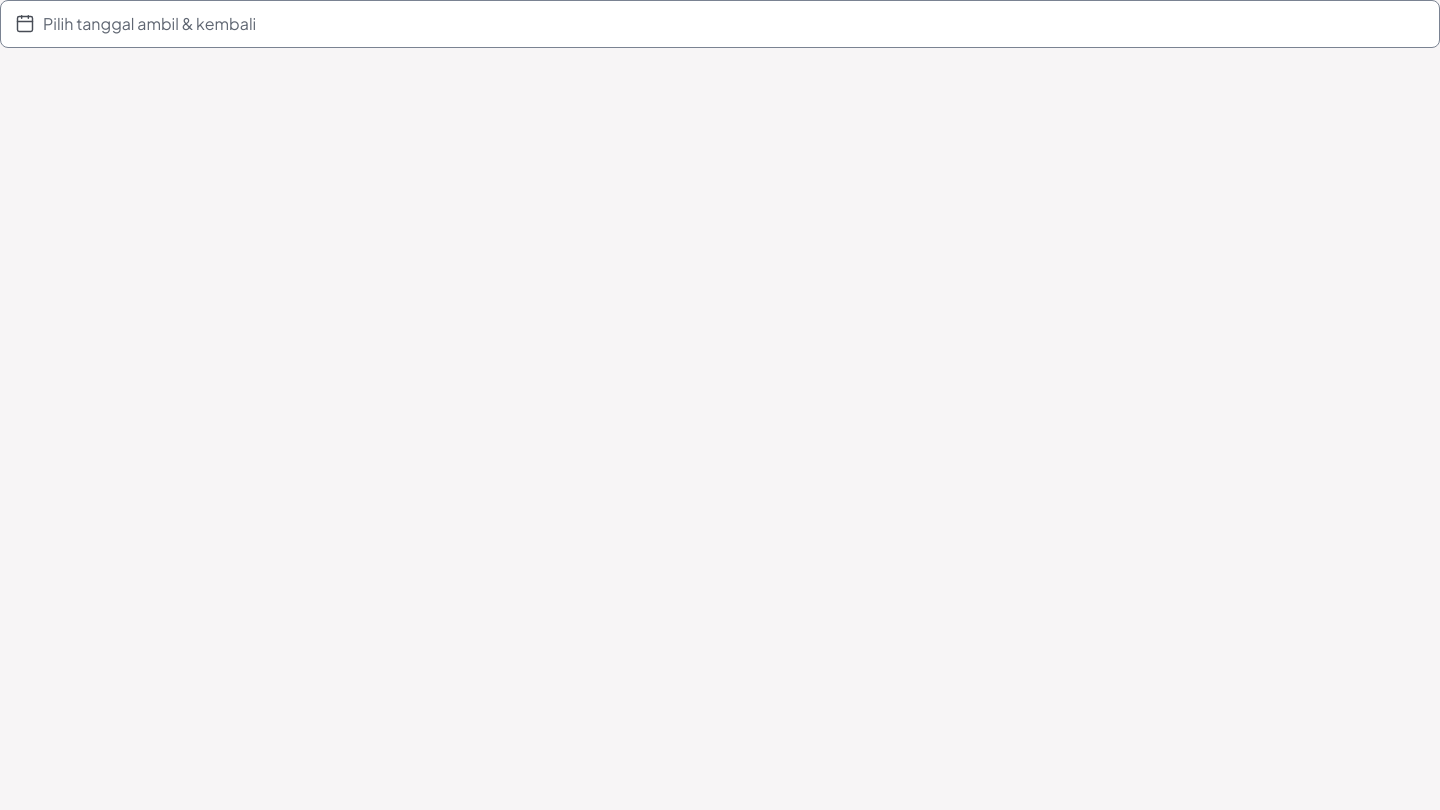
Test: DateRangePicker › offers 30-minute slots inside opening hours
Step 1. Click the button "Pilih tanggal ambil & kembali" → x=150, y=24, box x1=0 y1=0 x2=1439 y2=48
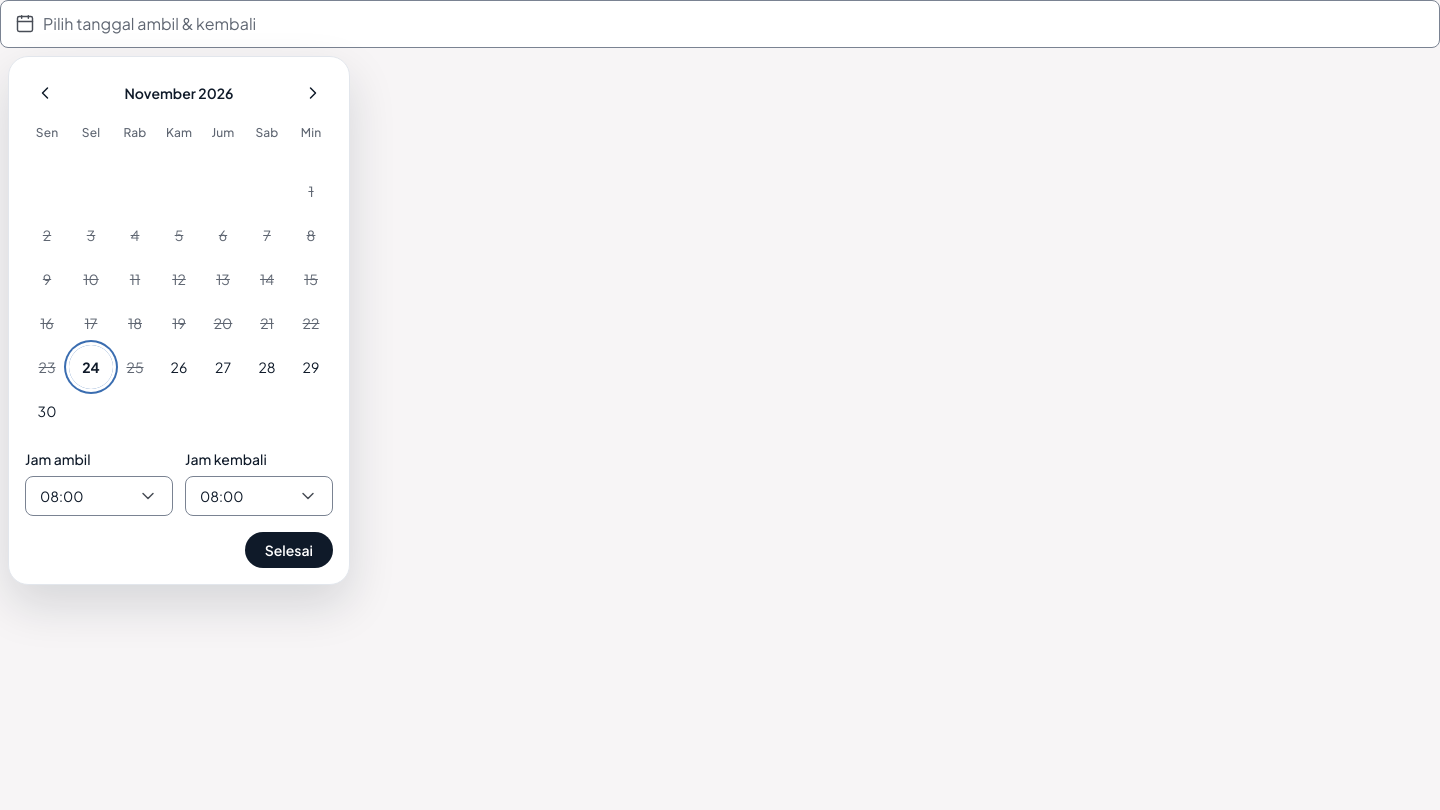
Step 2. Click the dropdown named "Jam ambil" → x=99, y=496, box x1=25 y1=476 x2=173 y2=516
(page scrolled)
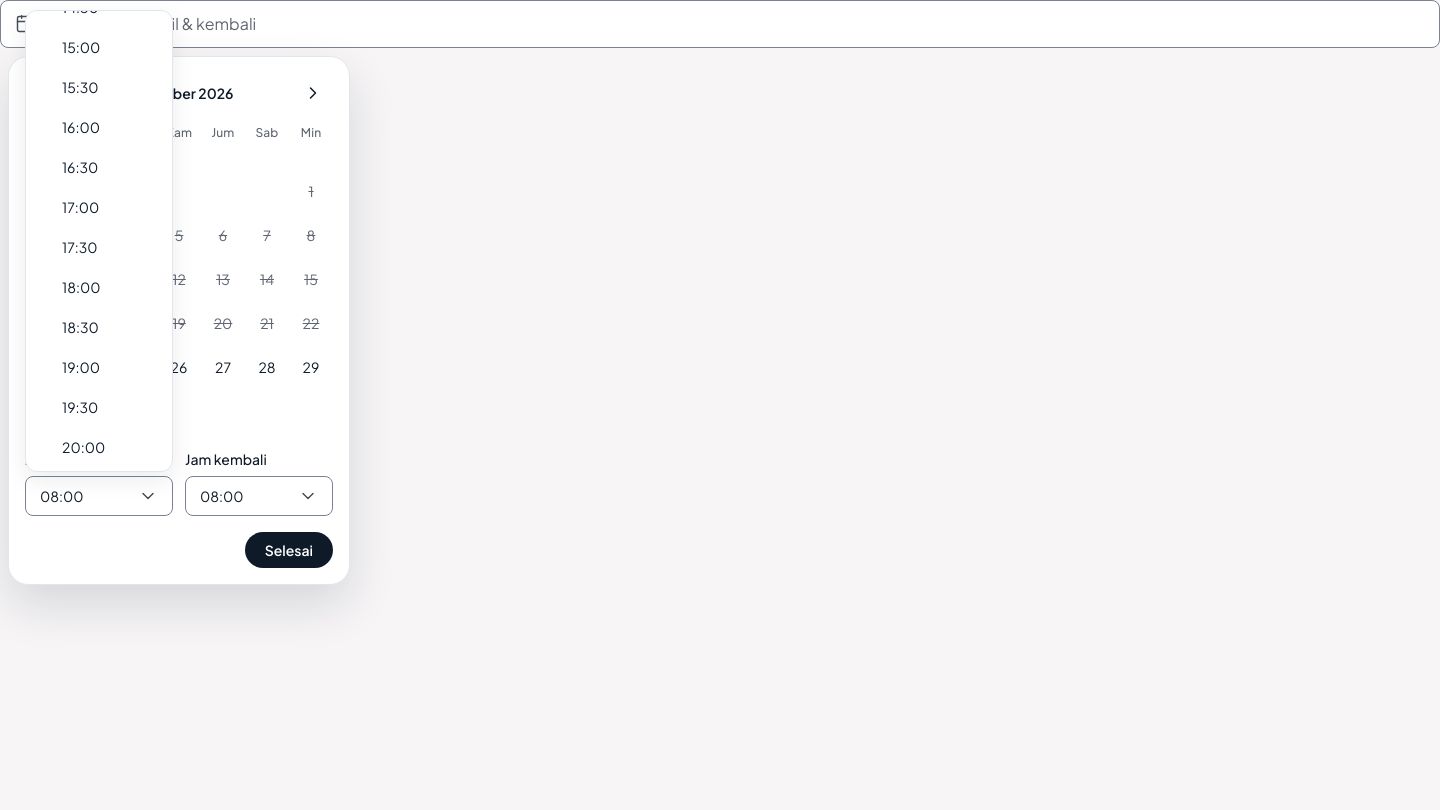
Expected: the option "20:00" is shown, x1=62 y1=438 x2=105 y2=456
